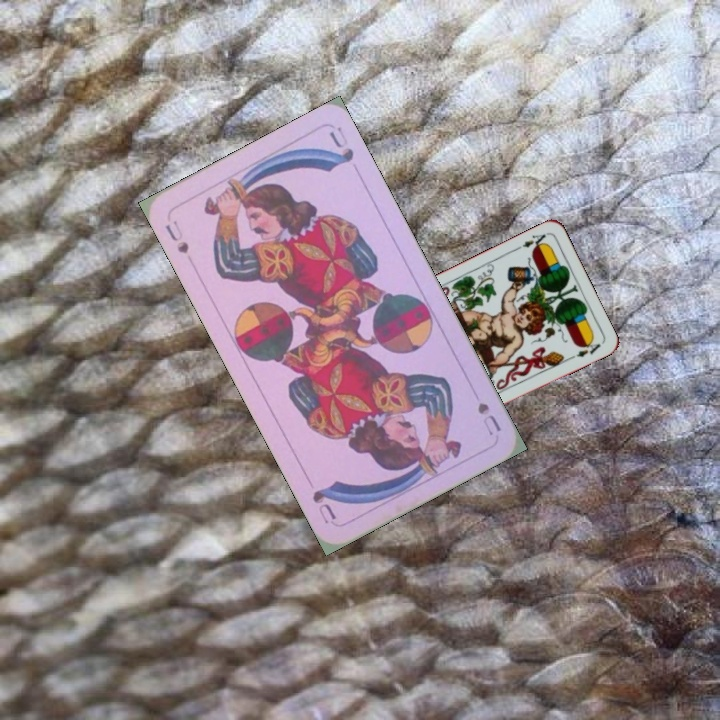EA: (512, 230, 550, 253)
SU: (473, 398, 504, 438), (161, 216, 191, 257)
